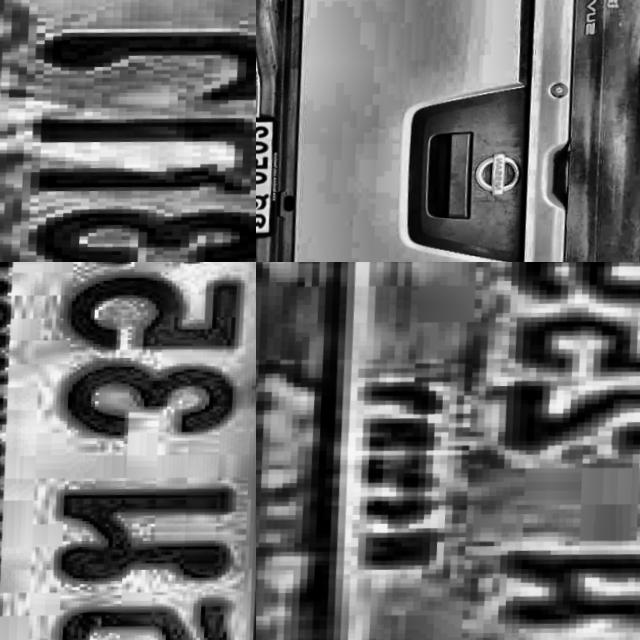license-plate: (256, 262, 640, 640), (0, 262, 256, 640), (0, 0, 256, 262), (256, 110, 295, 239)
